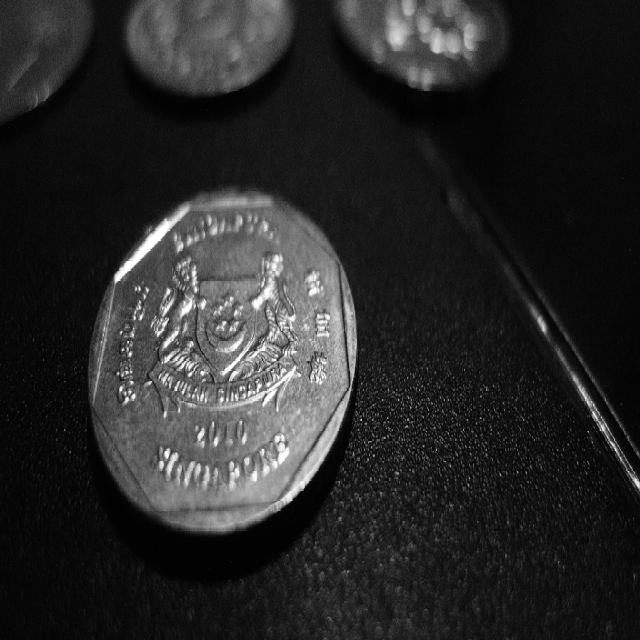Coin: (84, 187, 362, 543), (125, 0, 298, 101), (336, 0, 508, 89), (0, 0, 98, 124)
